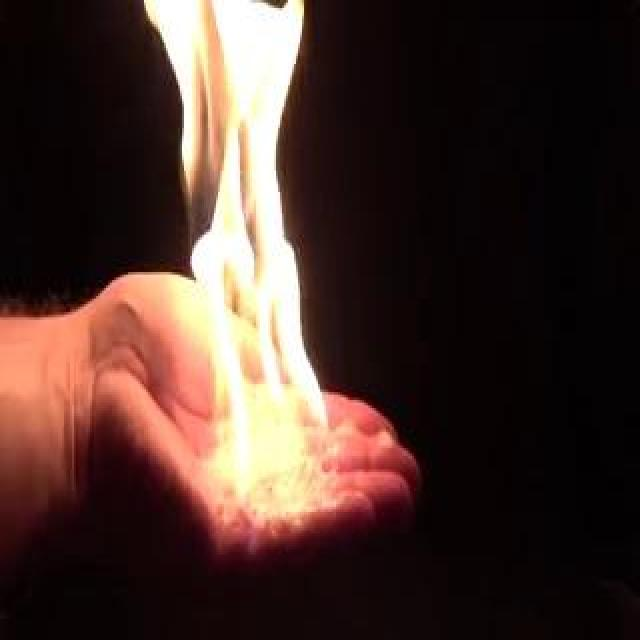Fire: (141, 2, 303, 474)
